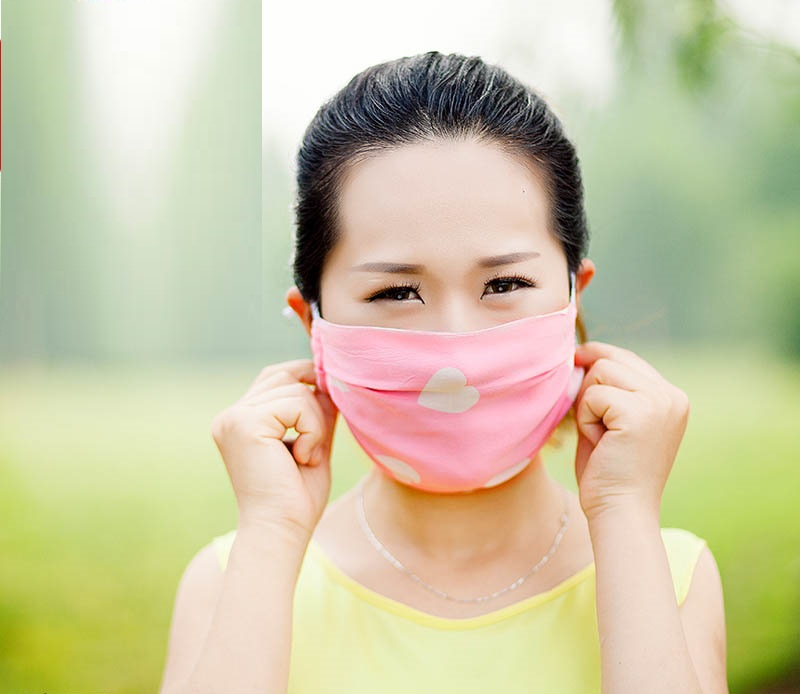face_mask: (314, 144, 573, 477)
